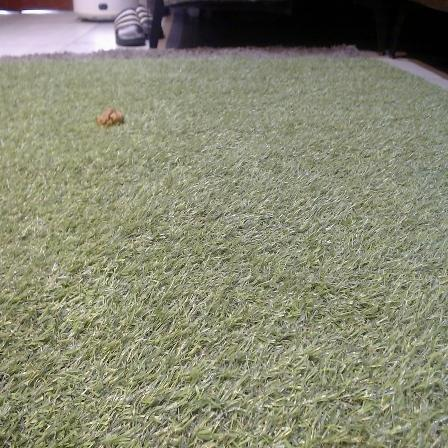dog-poop: (98, 101, 128, 125)
